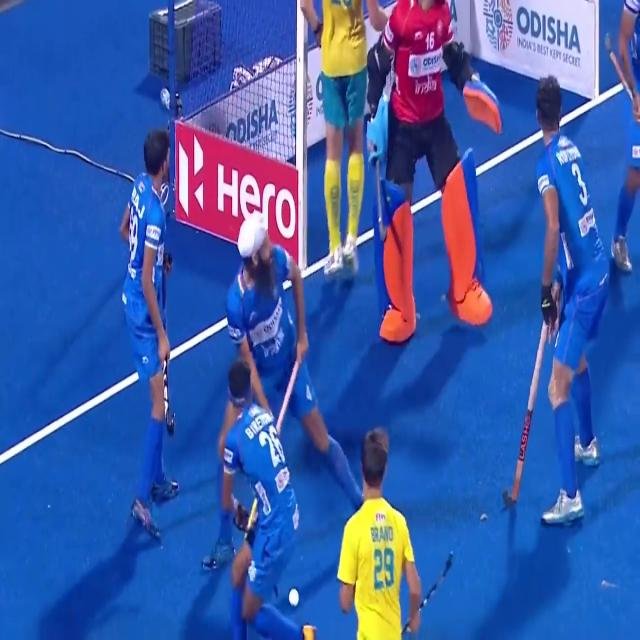ball: (280, 583, 307, 614)
